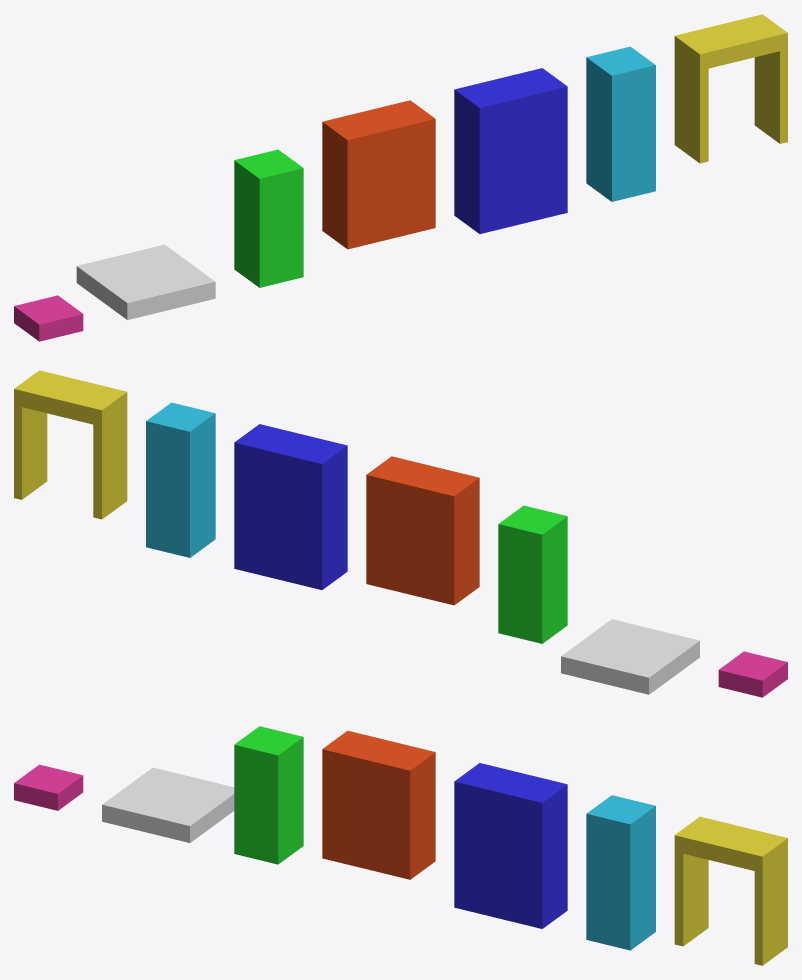
File: Modules.fbx
3 views of the same model, one above another, from view 1: azimuth 30°, elevation 25°; view 2: azimuth 150°, elevation 25°; view 3: azimuth 330°, elevation 25° (orthographic).
Parts seen in each view (by area): view 1: OuterWall 2x1, InnerWall 2x1, DoorWay, OuterWall 1x1, InnerWall 1x1, Floor 2x2, Floor 1x1; view 2: OuterWall 2x1, InnerWall 2x1, DoorWay, OuterWall 1x1, InnerWall 1x1, Floor 2x2, Floor 1x1; view 3: OuterWall 2x1, InnerWall 2x1, DoorWay, OuterWall 1x1, InnerWall 1x1, Floor 2x2, Floor 1x1.
Part boxes in pixels (x1,y1,x2,y2): OuterWall 2x1: (454, 68, 567, 233); InnerWall 2x1: (322, 100, 435, 249); DoorWay: (674, 14, 787, 163); OuterWall 1x1: (586, 46, 655, 201); InnerWall 1x1: (234, 149, 303, 287); Floor 2x2: (76, 244, 215, 319); Floor 1x1: (14, 295, 83, 341); OuterWall 2x1: (234, 424, 347, 589); InnerWall 2x1: (366, 456, 479, 605); DoorWay: (14, 370, 127, 519); OuterWall 1x1: (146, 402, 215, 557); InnerWall 1x1: (498, 505, 567, 643); Floor 2x2: (561, 619, 699, 694); Floor 1x1: (718, 651, 787, 697); OuterWall 2x1: (454, 763, 567, 928); InnerWall 2x1: (322, 730, 435, 879); DoorWay: (674, 816, 787, 965); OuterWall 1x1: (586, 795, 655, 950); InnerWall 1x1: (234, 726, 303, 864); Floor 2x2: (102, 767, 234, 842); Floor 1x1: (14, 764, 83, 810).
Bounding box in the file's own units: 1700 × 274 × 200.
